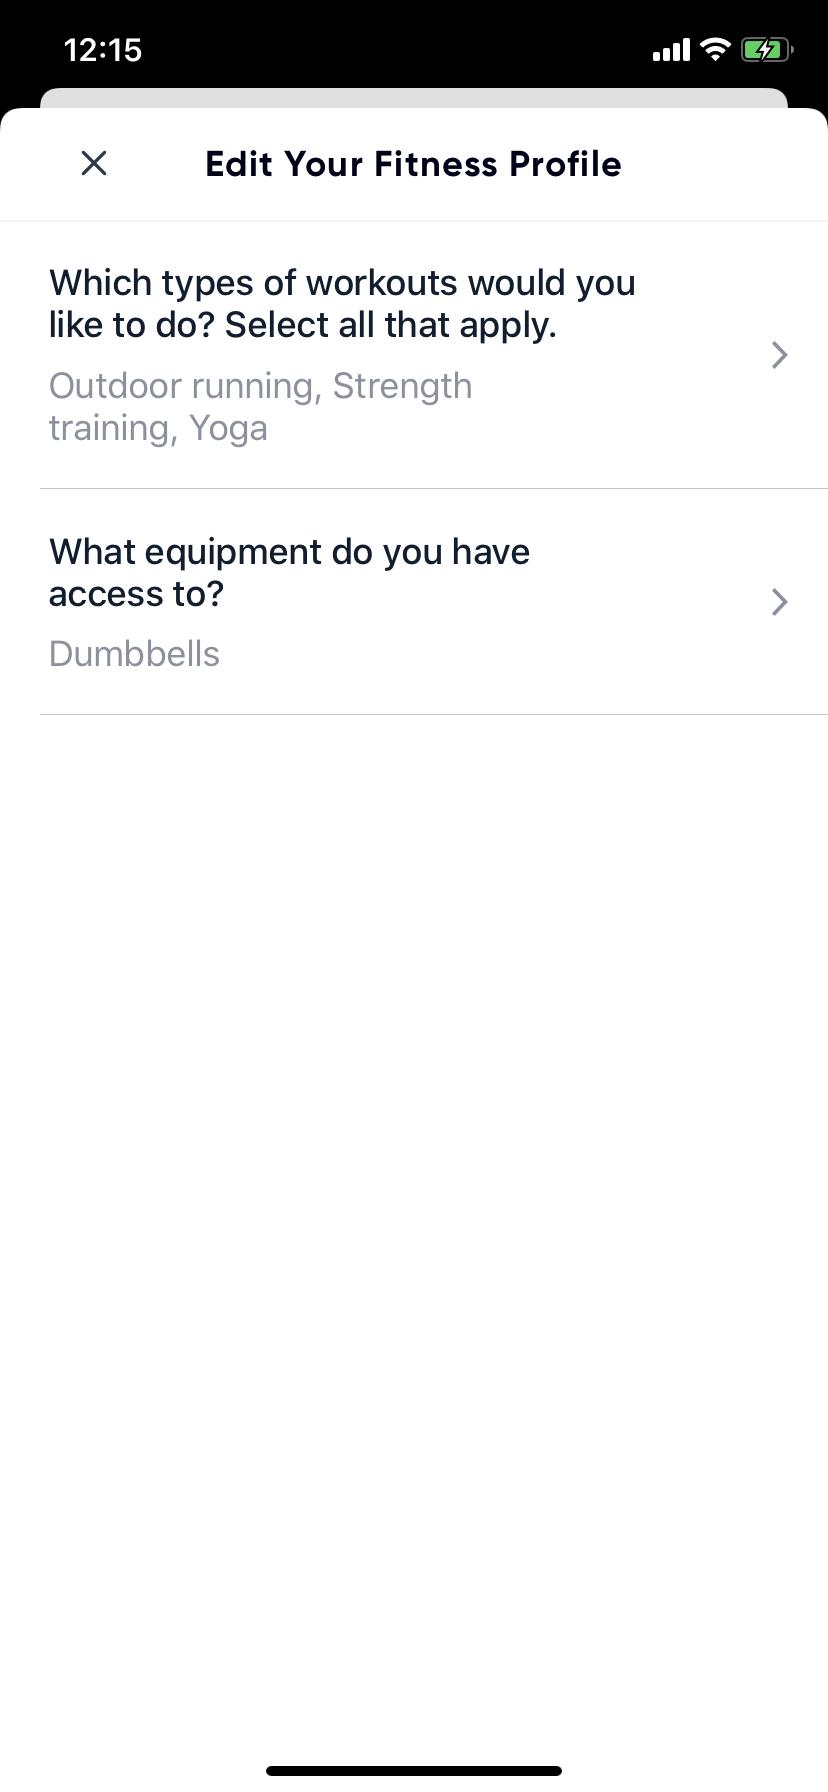Buttons: (57, 123, 136, 205)
